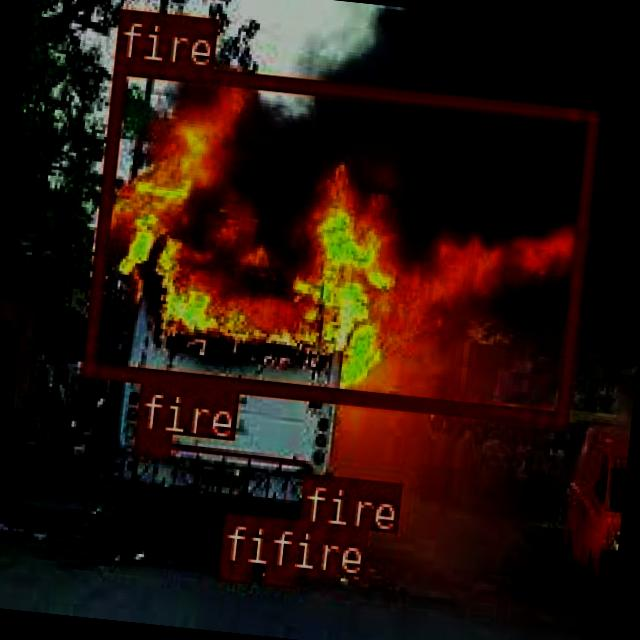fire: (80, 56, 598, 424), (294, 520, 336, 574), (132, 428, 170, 456), (216, 560, 250, 580), (261, 564, 292, 584)
